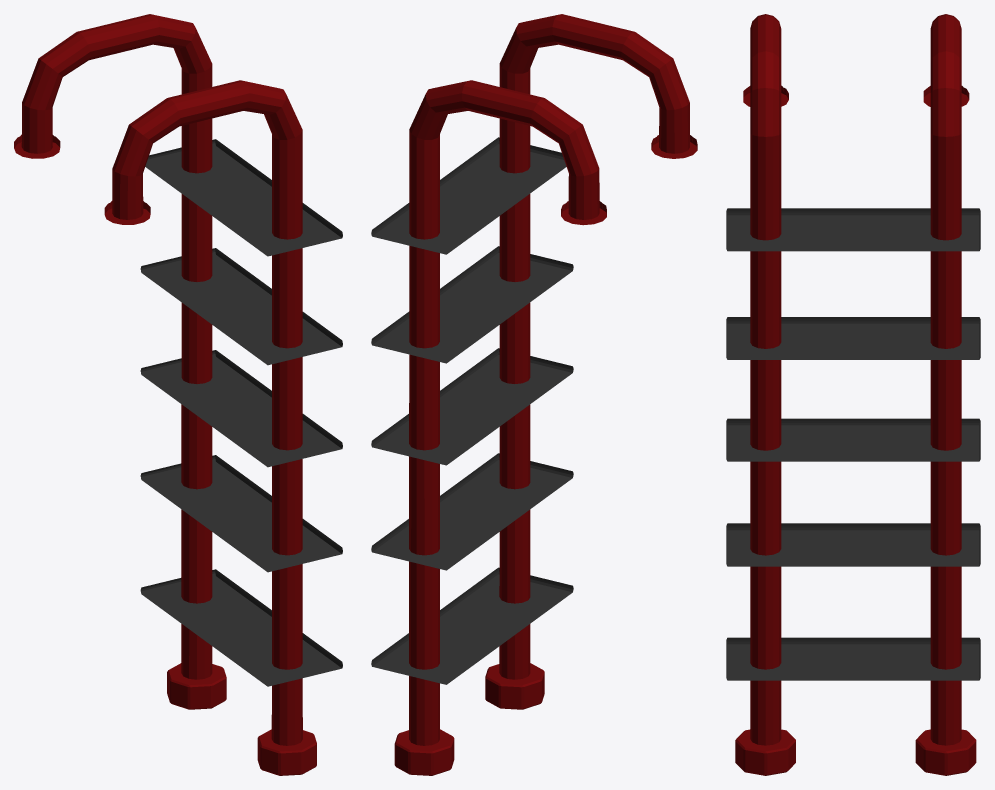
Rendered from Ladder.fbx.
3 renders of one model, left to right at view 1: azimuth 30°, elevation 25°; view 2: azimuth 150°, elevation 25°; view 3: azimuth 270°, elevation 25°, orthographic.
Visible parts, largest first — view 1: Plane.001, Plane.007, Plane.004, Plane.003, Plane.005, Plane.006, Plane.002; view 2: Plane.007, Plane.001, Plane.003, Plane.004, Plane.005, Plane.006, Plane.002; view 3: Plane.007, Plane.001, Plane.002, Plane.005, Plane.006, Plane.004, Plane.003.
Part boxes in pixels (bbox=[...]): Plane.001: bbox=[104, 80, 316, 775]; Plane.007: bbox=[14, 14, 226, 709]; Plane.004: bbox=[140, 350, 342, 467]; Plane.003: bbox=[140, 248, 342, 365]; Plane.005: bbox=[140, 455, 342, 572]; Plane.006: bbox=[140, 569, 342, 686]; Plane.002: bbox=[145, 139, 342, 256]; Plane.007: bbox=[394, 80, 606, 775]; Plane.001: bbox=[485, 14, 697, 709]; Plane.003: bbox=[371, 246, 573, 363]; Plane.004: bbox=[371, 348, 573, 465]; Plane.005: bbox=[371, 453, 573, 570]; Plane.006: bbox=[371, 567, 573, 684]; Plane.002: bbox=[371, 137, 566, 254]; Plane.007: bbox=[915, 14, 976, 775]; Plane.001: bbox=[735, 14, 795, 775]; Plane.002: bbox=[726, 208, 980, 251]; Plane.005: bbox=[726, 523, 980, 566]; Plane.006: bbox=[726, 637, 980, 680]; Plane.004: bbox=[726, 418, 980, 461]; Plane.003: bbox=[726, 317, 980, 359].
Bounding box in the file's own units: 32.11 × 98.63 × 32.87.
